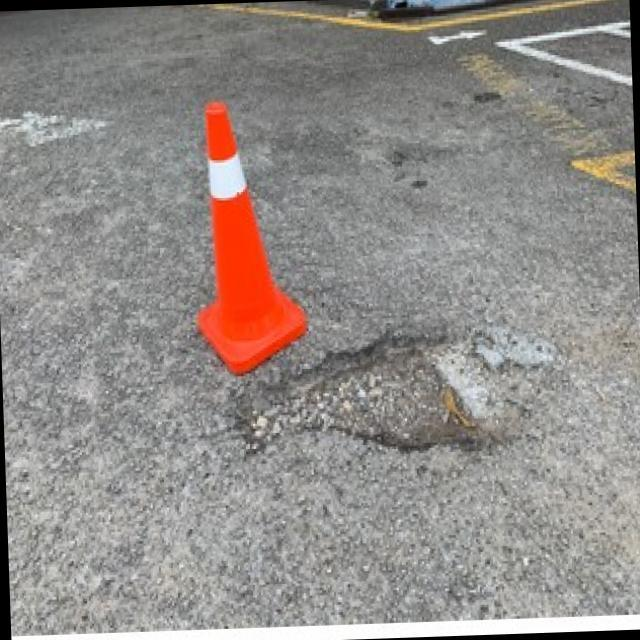Pothole: (230, 364, 526, 456)
